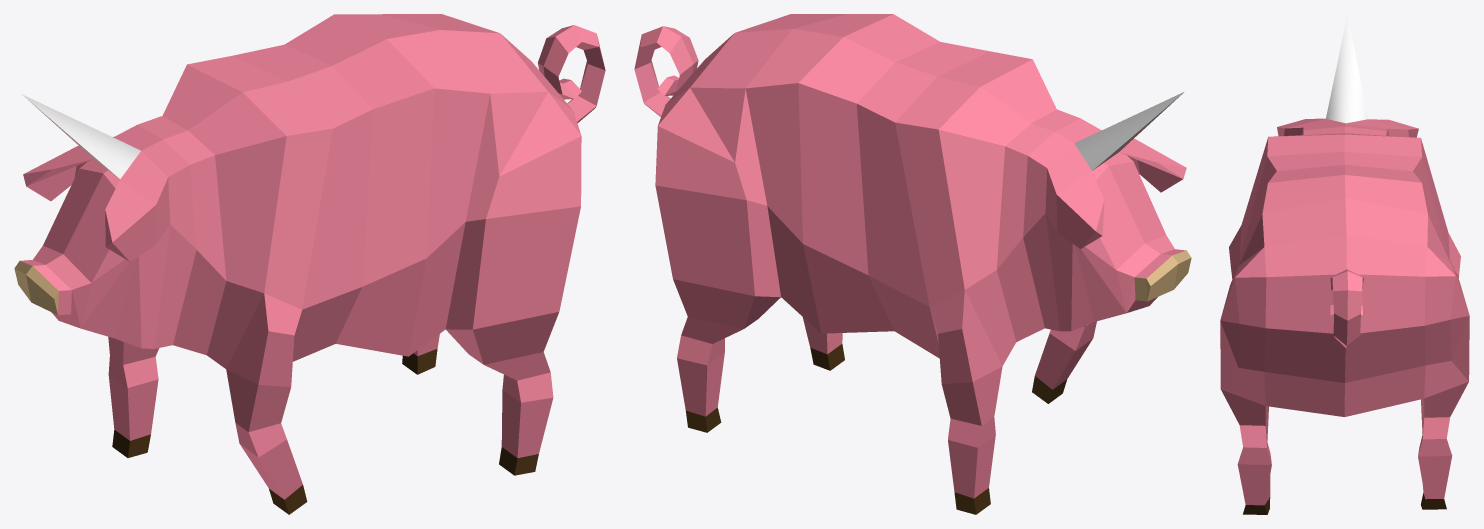
File: pigWalking1.obj
The picture shows the model from 3 angles, left to right: view 1: azimuth 30°, elevation 25°; view 2: azimuth 150°, elevation 25°; view 3: azimuth 270°, elevation 25°; orthographic projection. The views are drawn at different scales.
Parts seen in each view (by area): view 1: Pig_Cylinder; view 2: Pig_Cylinder; view 3: Pig_Cylinder.
Part boxes in pixels (x1,y1,x2,y2): Pig_Cylinder: [14, 14, 605, 514]; Pig_Cylinder: [634, 14, 1191, 514]; Pig_Cylinder: [1220, 15, 1469, 514].
Size of the model in its own units: 22.93 by 16.52 by 11.11.
